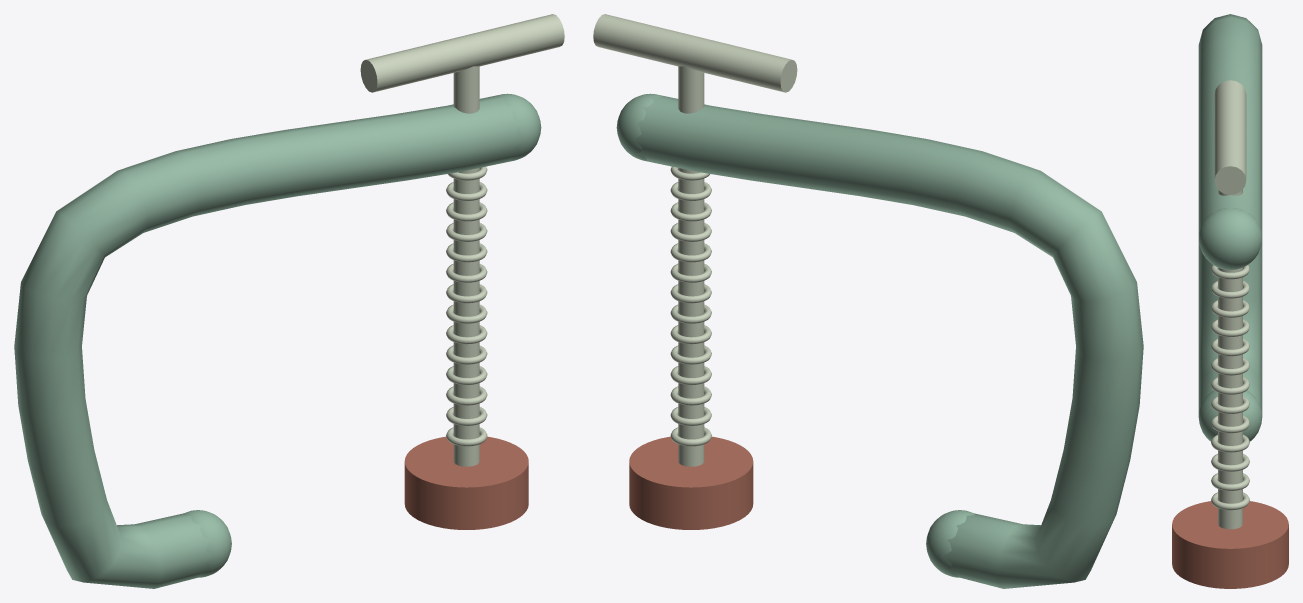
The model's file is enchanted-harp-garden-and-music-sanctuary-soundboard-c-a8758466__30408.glb.
The picture shows the model from 3 angles, left to right: view 1: azimuth 30°, elevation 25°; view 2: azimuth 150°, elevation 25°; view 3: azimuth 270°, elevation 25°; orthographic projection. The views are drawn at different scales.
Parts seen in each view (by area): view 1: soundboard-clamp; view 2: soundboard-clamp; view 3: soundboard-clamp.
Part boxes in pixels (x1,y1,x2,y2): soundboard-clamp: (14, 14, 564, 588); soundboard-clamp: (593, 14, 1143, 588); soundboard-clamp: (1172, 14, 1288, 588).
Size of the model in its own units: 0.3301 by 0.279 by 0.066.
